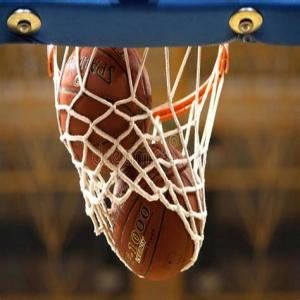Basket: (111, 143, 206, 283), (55, 47, 154, 175)
